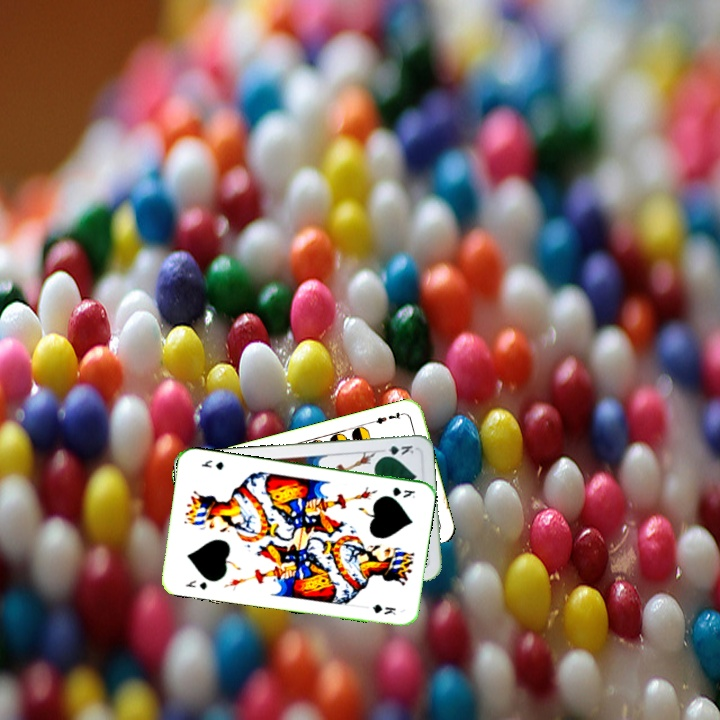E7: (367, 408, 407, 427)
GK: (377, 441, 416, 459), (389, 483, 418, 501), (181, 576, 209, 592)
